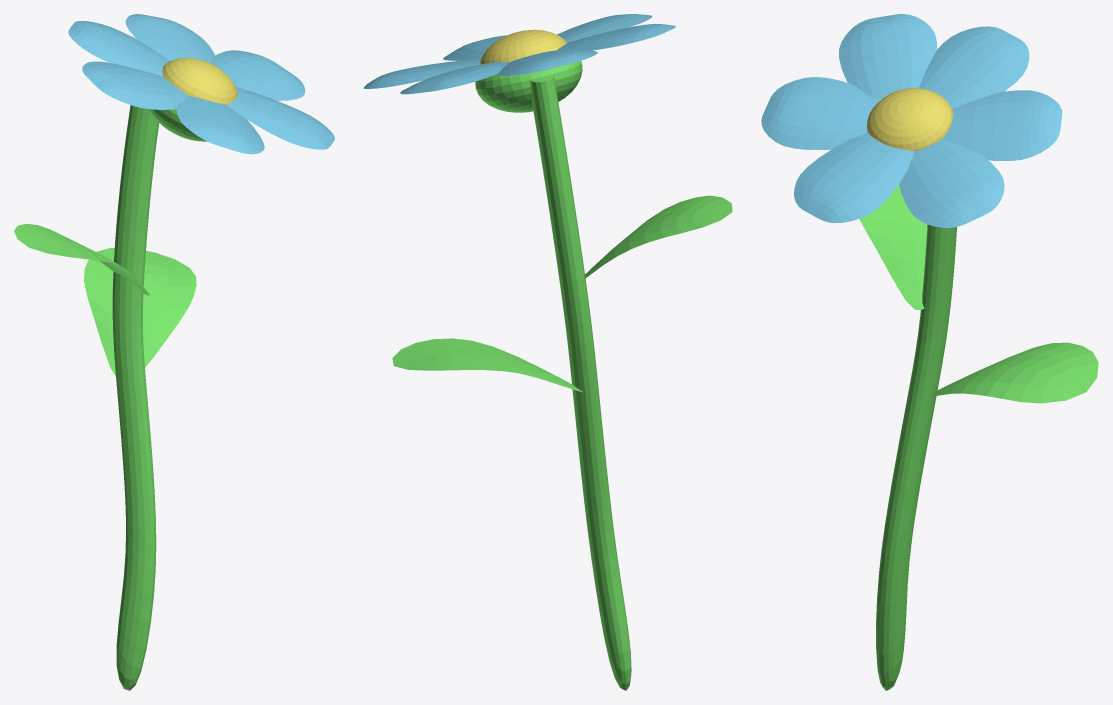
The model's file is kwiatek1.fbx.
3 views of the same model, side by side, from view 1: azimuth 30°, elevation 25°; view 2: azimuth 150°, elevation 25°; view 3: azimuth 270°, elevation 25° (orthographic). The views are drawn at different scales.
Visible parts, largest first — view 1: Cube.002, Plane.007, Plane.006, Plane.005, Plane.004, Plane.003, Plane.001, Plane.002, Sphere, Plane.008, Sphere.001; view 2: Cube.002, Plane.007, Plane.008, Sphere.001, Sphere, Plane.005, Plane.002, Plane.001, Plane.003, Plane.004, Plane.006; view 3: Cube.002, Plane.006, Plane.003, Plane.004, Plane.002, Plane.005, Plane.007, Plane.001, Plane.008, Sphere.
Part boxes in pixels (bbox=[...]): Cube.002: bbox=[112, 105, 159, 690]; Plane.007: bbox=[84, 248, 196, 375]; Plane.006: bbox=[226, 87, 334, 149]; Plane.005: bbox=[82, 61, 187, 109]; Plane.004: bbox=[176, 95, 264, 154]; Plane.003: bbox=[211, 50, 305, 100]; Plane.001: bbox=[68, 21, 169, 76]; Plane.002: bbox=[125, 14, 214, 63]; Sphere: bbox=[162, 57, 237, 104]; Plane.008: bbox=[14, 224, 149, 295]; Sphere.001: bbox=[149, 109, 207, 141]; Cube.002: bbox=[530, 75, 631, 690]; Plane.007: bbox=[392, 338, 583, 392]; Plane.008: bbox=[584, 195, 732, 278]; Sphere.001: bbox=[475, 61, 582, 112]; Sphere: bbox=[480, 29, 566, 64]; Plane.005: bbox=[558, 24, 675, 50]; Plane.002: bbox=[400, 62, 509, 94]; Plane.001: bbox=[497, 49, 597, 76]; Plane.003: bbox=[363, 59, 480, 88]; Plane.004: bbox=[557, 14, 652, 42]; Plane.006: bbox=[443, 35, 506, 60]; Cube.002: bbox=[876, 224, 956, 690]; Plane.006: bbox=[794, 132, 914, 222]; Plane.003: bbox=[899, 139, 1004, 227]; Plane.004: bbox=[761, 77, 878, 149]; Plane.002: bbox=[942, 90, 1062, 160]; Plane.005: bbox=[839, 14, 936, 101]; Plane.007: bbox=[930, 342, 1098, 403]; Plane.001: bbox=[918, 26, 1029, 108]; Plane.008: bbox=[859, 185, 927, 310]; Sphere: bbox=[867, 88, 952, 151].
Bounding box in the file's own units: 18.62 × 36.46 × 16.91.
